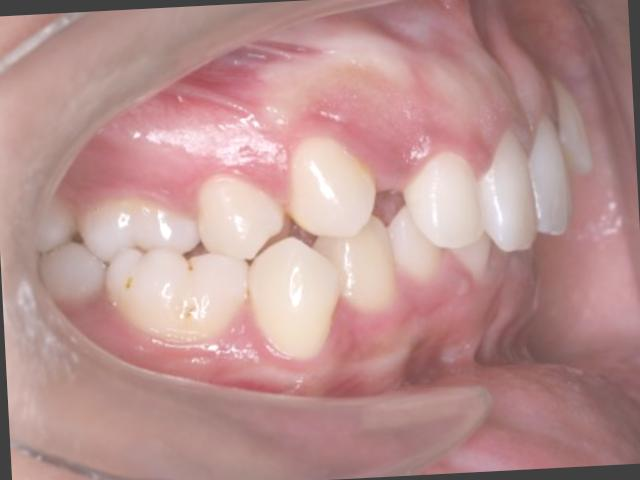molar class III 1/2: (68, 178, 256, 369)
